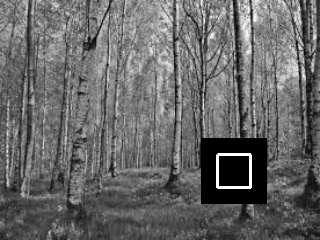square: (201, 138, 267, 204)
